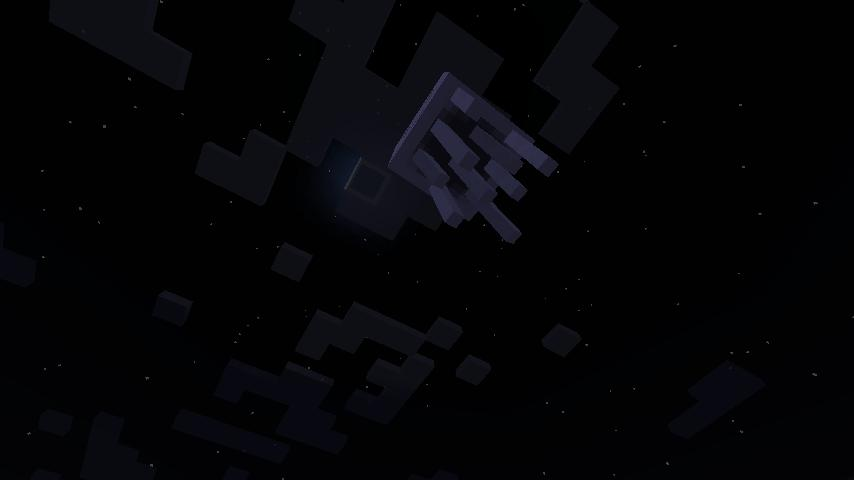ghast: (386, 69, 559, 247)
